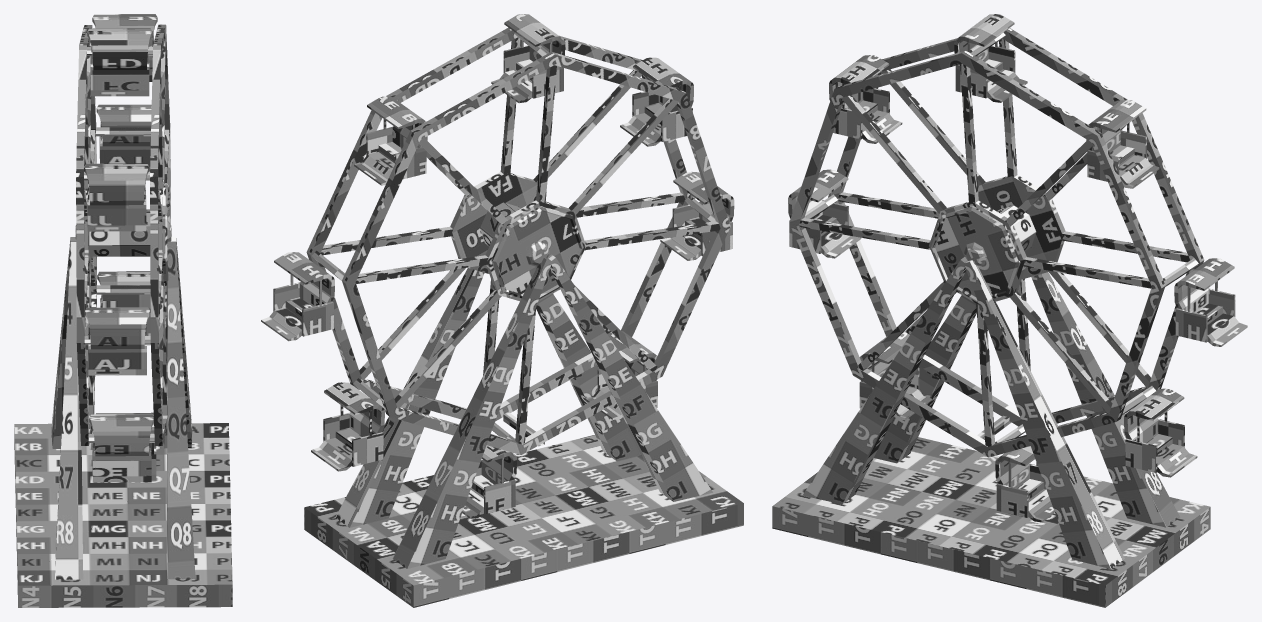
File: FerrisRig.fbx
3 renders of one model, left to right at view 1: azimuth 30°, elevation 25°; view 2: azimuth 150°, elevation 25°; view 3: azimuth 270°, elevation 25°, orthographic.
Visible parts, largest first — view 1: polySurface3, polySurface7, FerrisWheel:Seat1, FerrisWheel:Seat, FerrisWheel:Seat3, FerrisWheel:Seat2, FerrisWheel:Seat6, FerrisWheel:Seat5, FerrisWheel:Seat7, FerrisWheel:Seat4; view 2: polySurface3, polySurface7, FerrisWheel:Seat5, FerrisWheel:Seat6, FerrisWheel:Seat7, FerrisWheel:Seat1, FerrisWheel:Seat, FerrisWheel:Seat4, FerrisWheel:Seat2, FerrisWheel:Seat3; view 3: polySurface3, polySurface7, FerrisWheel:Seat6, FerrisWheel:Seat5, FerrisWheel:Seat7, FerrisWheel:Seat4, FerrisWheel:Seat1, FerrisWheel:Seat, FerrisWheel:Seat2, FerrisWheel:Seat3.
Part boxes in pixels (bbox=[...]): polySurface3: bbox=[14, 236, 232, 607]; polySurface7: bbox=[75, 24, 171, 445]; FerrisWheel:Seat1: bbox=[84, 163, 149, 231]; FerrisWheel:Seat: bbox=[87, 28, 152, 96]; FerrisWheel:Seat3: bbox=[89, 414, 153, 482]; FerrisWheel:Seat2: bbox=[85, 307, 149, 375]; FerrisWheel:Seat6: bbox=[96, 104, 151, 171]; FerrisWheel:Seat5: bbox=[97, 271, 150, 335]; FerrisWheel:Seat7: bbox=[92, 14, 157, 81]; FerrisWheel:Seat4: bbox=[95, 412, 156, 480]; polySurface3: bbox=[304, 254, 743, 607]; polySurface7: bbox=[306, 27, 730, 454]; FerrisWheel:Seat5: bbox=[311, 382, 384, 471]; FerrisWheel:Seat6: bbox=[261, 252, 334, 341]; FerrisWheel:Seat7: bbox=[354, 96, 427, 185]; FerrisWheel:Seat1: bbox=[620, 57, 693, 146]; FerrisWheel:Seat: bbox=[491, 14, 565, 103]; FerrisWheel:Seat4: bbox=[462, 445, 516, 518]; FerrisWheel:Seat2: bbox=[660, 172, 734, 260]; FerrisWheel:Seat3: bbox=[585, 331, 657, 419]; polySurface3: bbox=[772, 257, 1210, 607]; polySurface7: bbox=[789, 28, 1204, 457]; FerrisWheel:Seat6: bbox=[1174, 258, 1247, 346]; FerrisWheel:Seat5: bbox=[1124, 388, 1197, 477]; FerrisWheel:Seat7: bbox=[1086, 100, 1159, 188]; FerrisWheel:Seat4: bbox=[995, 446, 1054, 522]; FerrisWheel:Seat1: bbox=[829, 55, 902, 143]; FerrisWheel:Seat: bbox=[954, 14, 1027, 102]; FerrisWheel:Seat2: bbox=[788, 169, 861, 258]; FerrisWheel:Seat3: bbox=[859, 331, 931, 420].
Bounding box in the file's own units: 12.21 × 17.94 × 15.49.
Materials: 1 (1 with a texture image).
